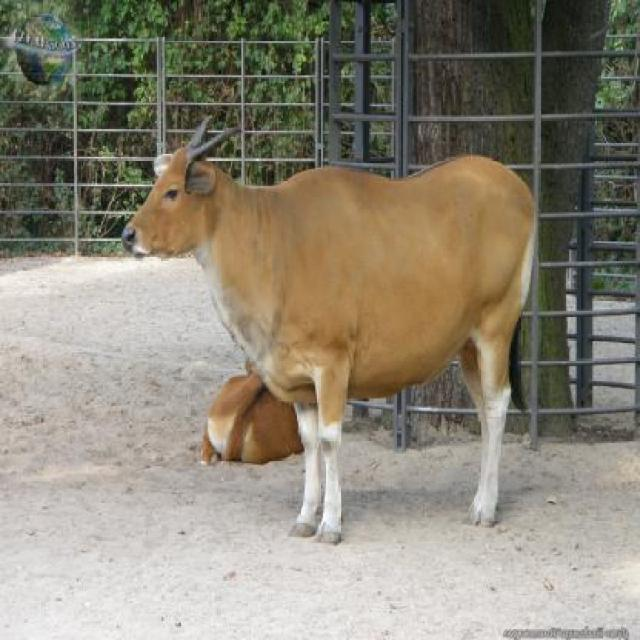Cow: (123, 118, 539, 544)
